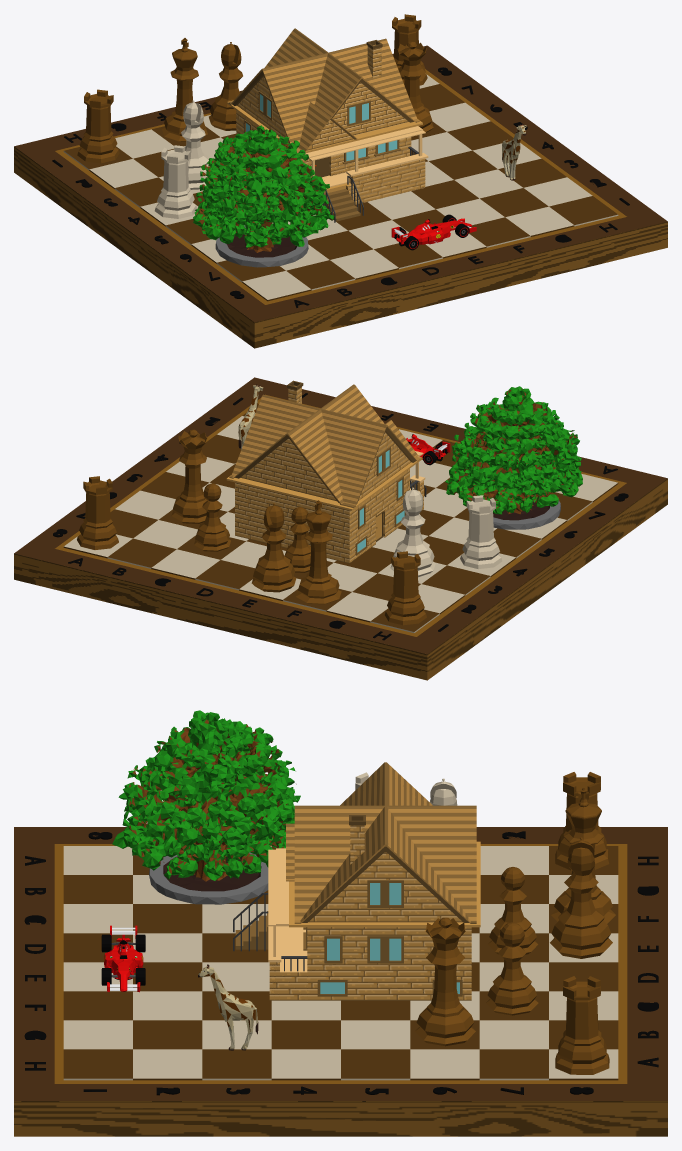
3 renders of one model, top to bottom at view 1: azimuth 30°, elevation 25°; view 2: azimuth 150°, elevation 25°; view 3: azimuth 270°, elevation 25°, orthographic. The views are drawn at different scales.
Visible parts, largest first — view 1: Cube.002, Cube.508, OBJRANDOM_CEIBA, VEHICLES_FORMULA_1, ANIMAL_JIRAFA; view 2: Cube.002, Cube.508, OBJRANDOM_CEIBA, VEHICLES_FORMULA_1, ANIMAL_JIRAFA; view 3: Cube.002, Cube.508, OBJRANDOM_CEIBA, VEHICLES_FORMULA_1, ANIMAL_JIRAFA.
Part boxes in pixels (x1,y1,x2,y2): Cube.002: (14, 14, 667, 348); Cube.508: (227, 28, 428, 222); OBJRANDOM_CEIBA: (193, 125, 334, 267); VEHICLES_FORMULA_1: (391, 214, 476, 250); ANIMAL_JIRAFA: (502, 124, 526, 180); Cube.002: (14, 377, 667, 680); Cube.508: (226, 380, 426, 563); OBJRANDOM_CEIBA: (445, 386, 582, 529); VEHICLES_FORMULA_1: (406, 434, 450, 465); ANIMAL_JIRAFA: (238, 384, 263, 449); Cube.002: (14, 772, 667, 1136); Cube.508: (233, 762, 480, 1000); OBJRANDOM_CEIBA: (112, 710, 300, 904); VEHICLES_FORMULA_1: (101, 925, 145, 992); ANIMAL_JIRAFA: (198, 964, 258, 1050).
Bounding box in the file's own units: 3981 × 1488 × 4012.
39 materials, 3 textured.
